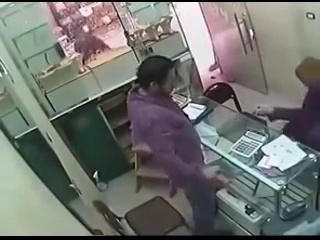Normal: (126, 55, 229, 232)
